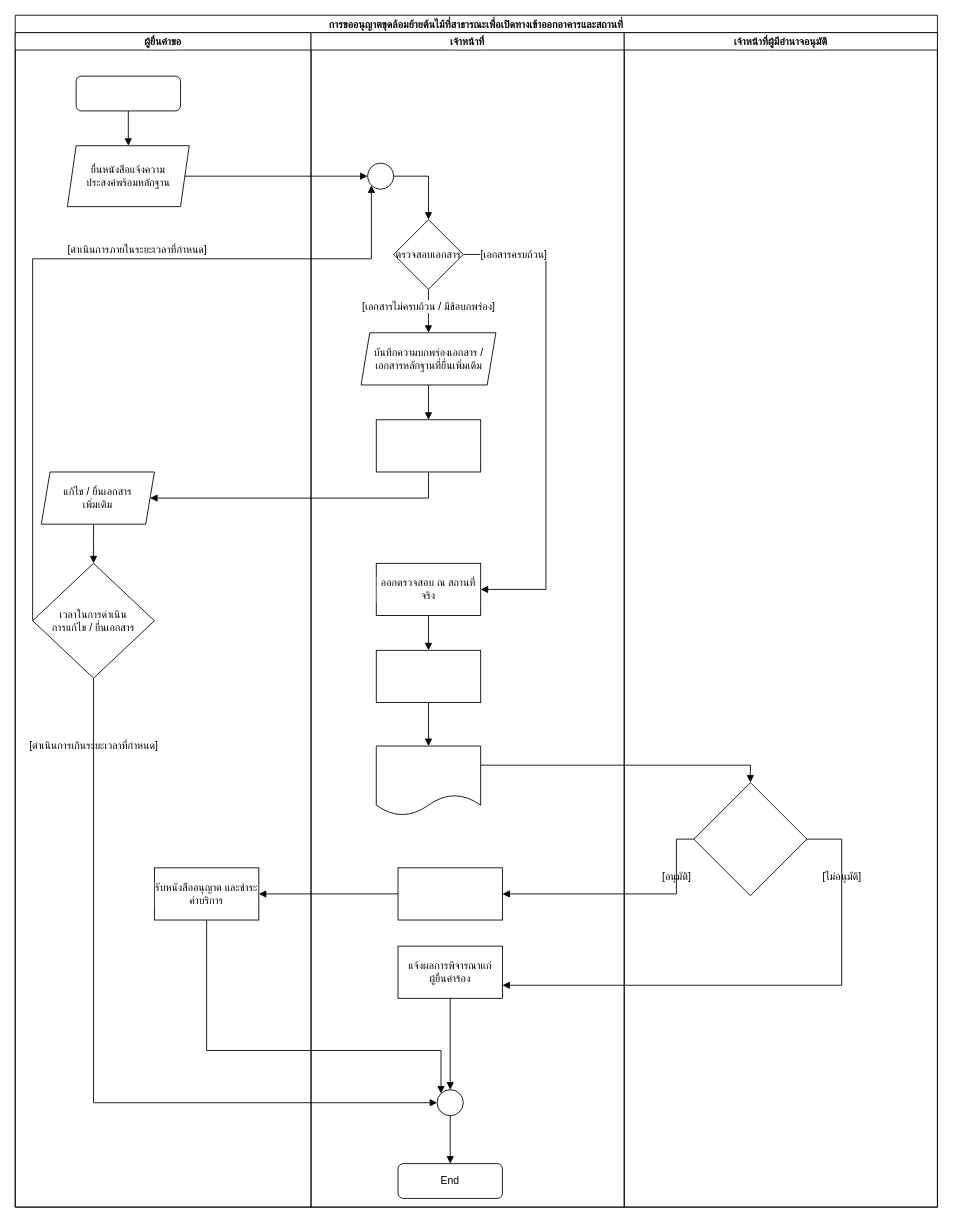
Image size: 953x1222. Some labels were removed from this diagram. The centre of each missing label's shape, as x and y in pixels:
"Start" belongs at (x=128, y=93).
"จัดทำรายงานและนำเสนอเจ้าหน้าที่ผู้มีอำนาจอนุมัติ" belongs at (x=428, y=780).
"พิจารณา รายงานคำร้อง" belongs at (x=750, y=839).
"พิจารณาค่าบริการ" belongs at (x=428, y=676).
"มอบสำเนาบันทึกความบกพร่องแก่ผู้ยื่นคำขอ" belongs at (x=428, y=445).
"แจ้งผลการพิจารณาและประชาสัมพันธ์ให้ประชาชนทราบ" belongs at (x=449, y=893).
